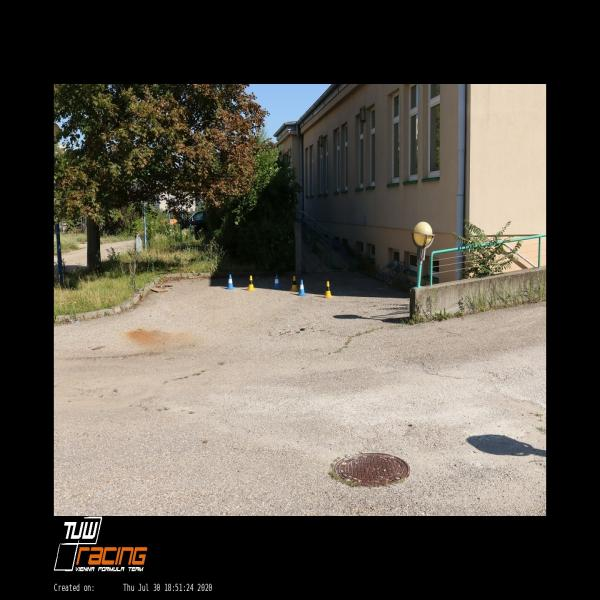blue_cone: (297, 280, 306, 296), (272, 275, 281, 290), (226, 274, 234, 289)
yellow_cone: (322, 280, 334, 298), (246, 275, 255, 291), (290, 276, 299, 291)
